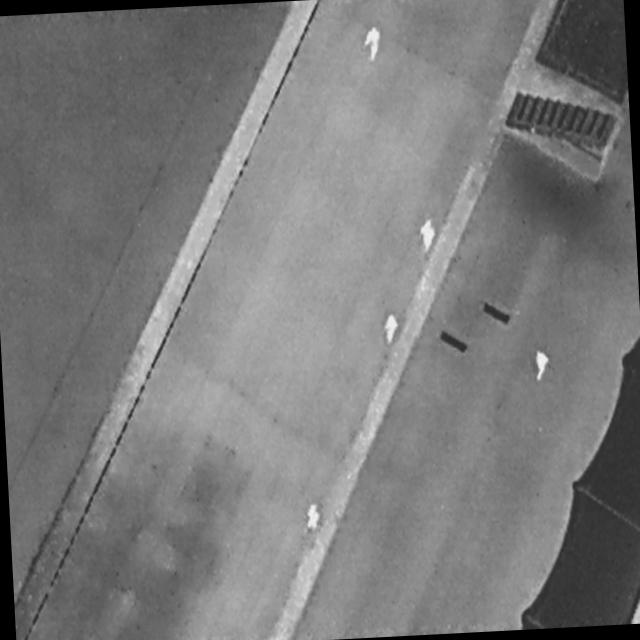person: (361, 22, 386, 66), (418, 212, 440, 257), (533, 347, 552, 385), (384, 309, 403, 346), (306, 500, 323, 535)
